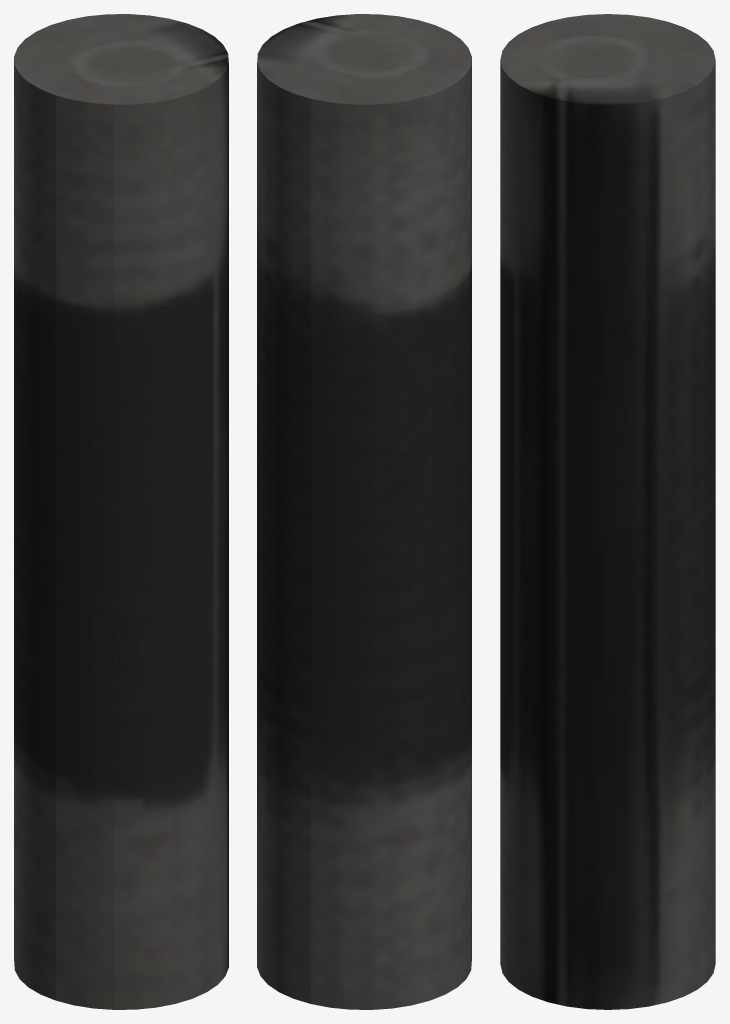
File: seat__hinge_barrel.glb
3 renders of one model, left to right at view 1: azimuth 30°, elevation 25°; view 2: azimuth 150°, elevation 25°; view 3: azimuth 270°, elevation 25°, orthographic.
Parts seen in each view (by area): view 1: world; view 2: world; view 3: world.
Part boxes in pixels (x1,y1,x2,y2): world: [14, 14, 228, 1009]; world: [257, 14, 471, 1009]; world: [500, 14, 715, 1009].
Bounding box in the file's own units: 0.056 × 0.26 × 0.056.
1 material, 1 textured.
